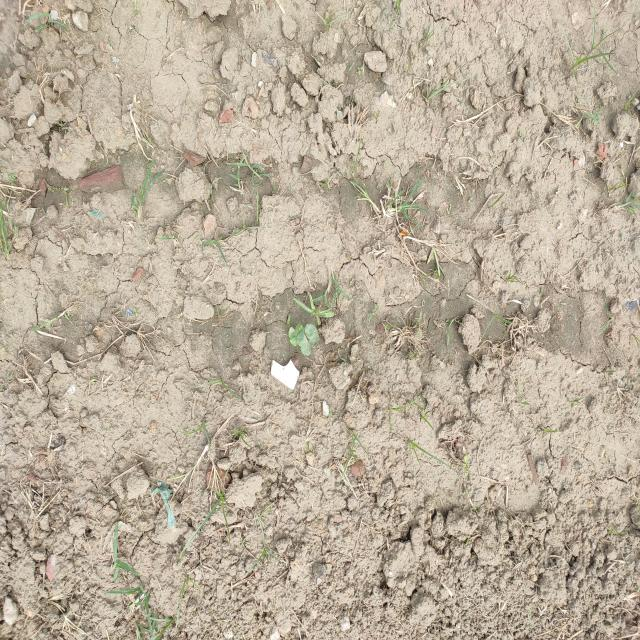seedling: (296, 332, 311, 356), (305, 324, 319, 348), (289, 327, 297, 346), (295, 323, 305, 335)
